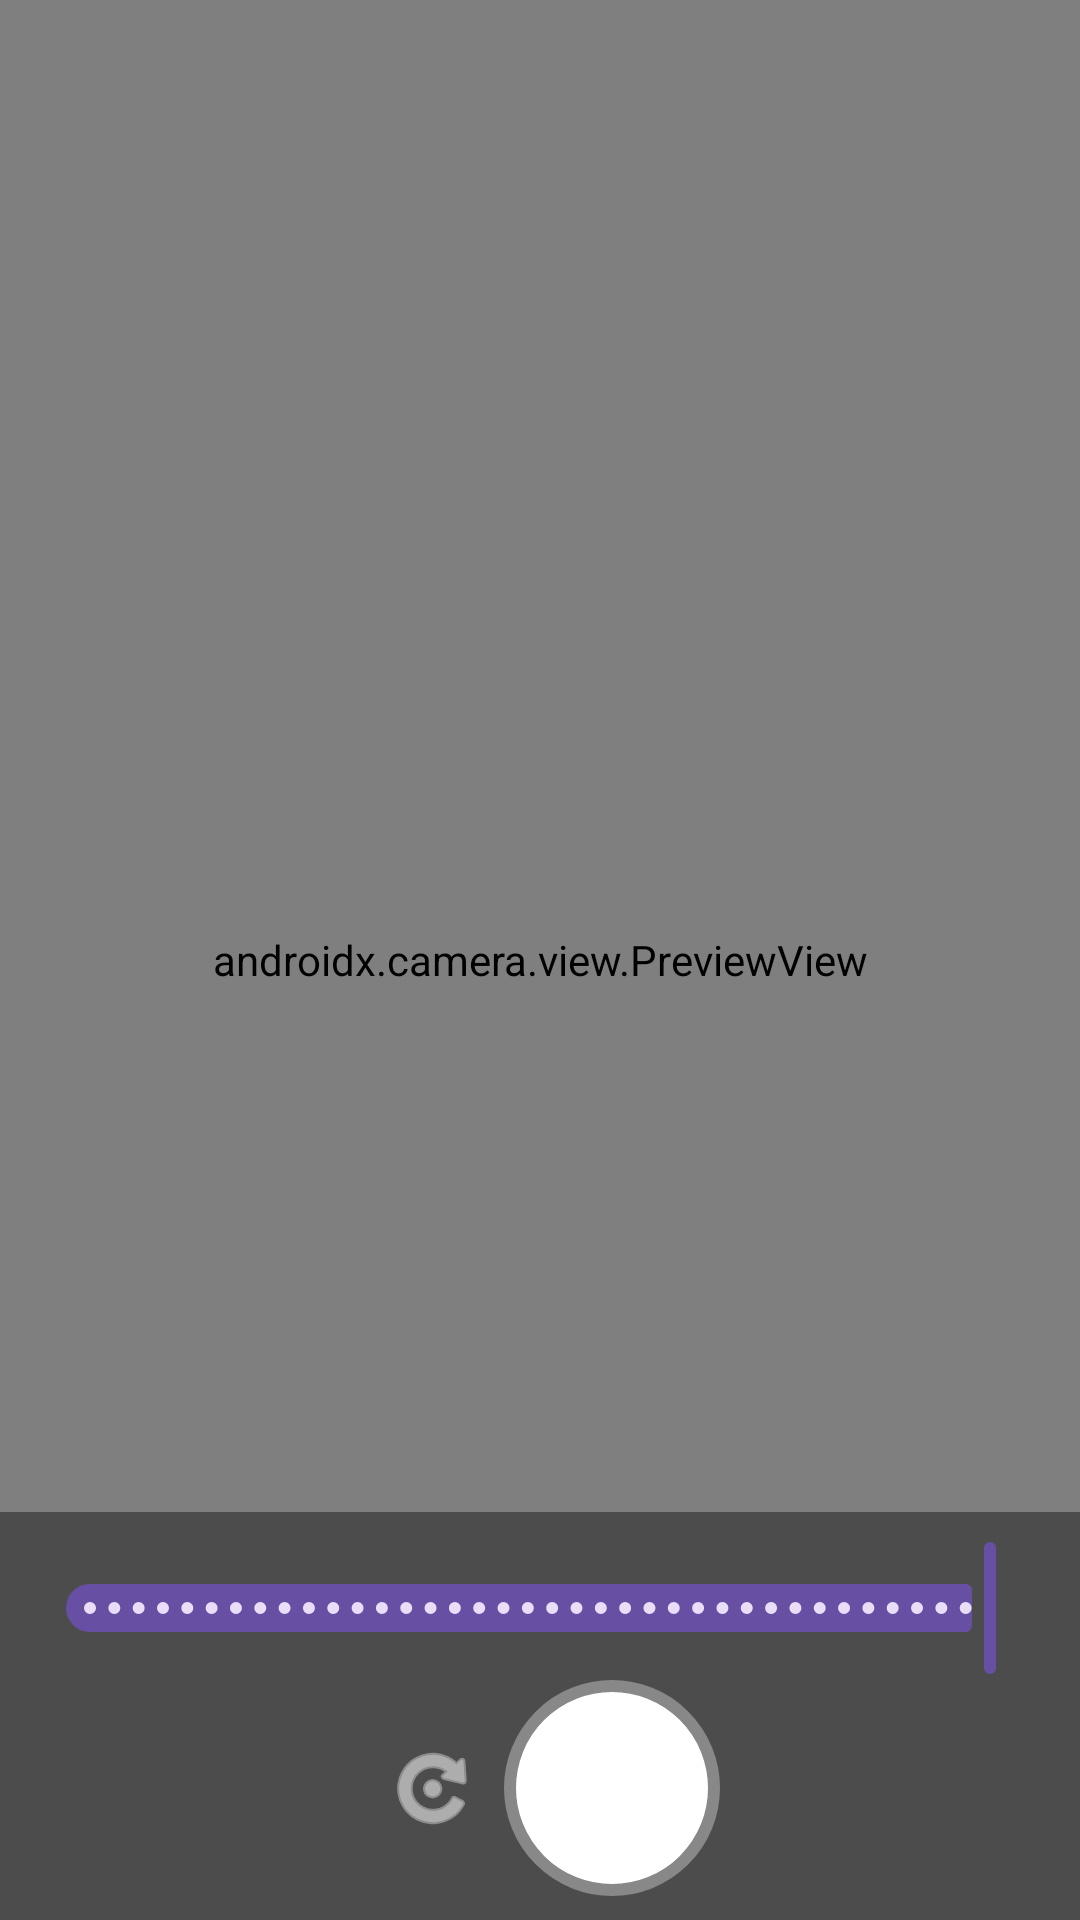

Point at icon controls on the screen. Image size 1080*1920, points as point (x, y).
Flip camera: point (432, 1788)
